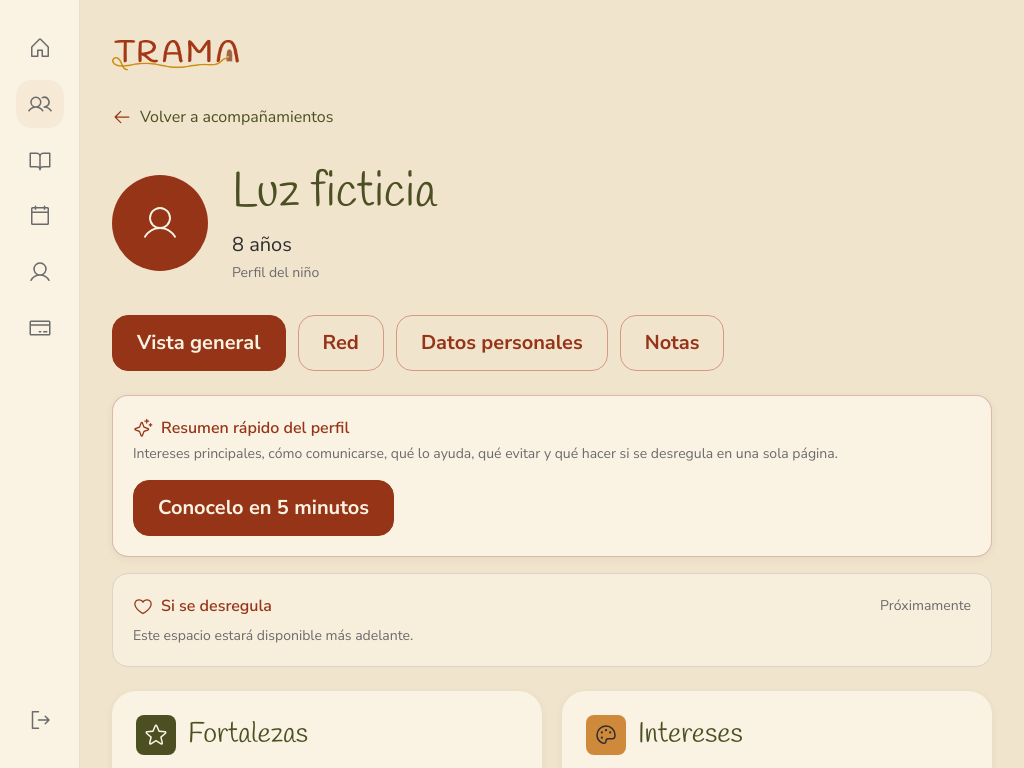
Test case: Datos personales y navegación compartida › agrega los botones juntos, con la vista general primero, y permite recorrer los datos guardados
Click the link "Datos personales": (502, 343) [396,315,608,371]
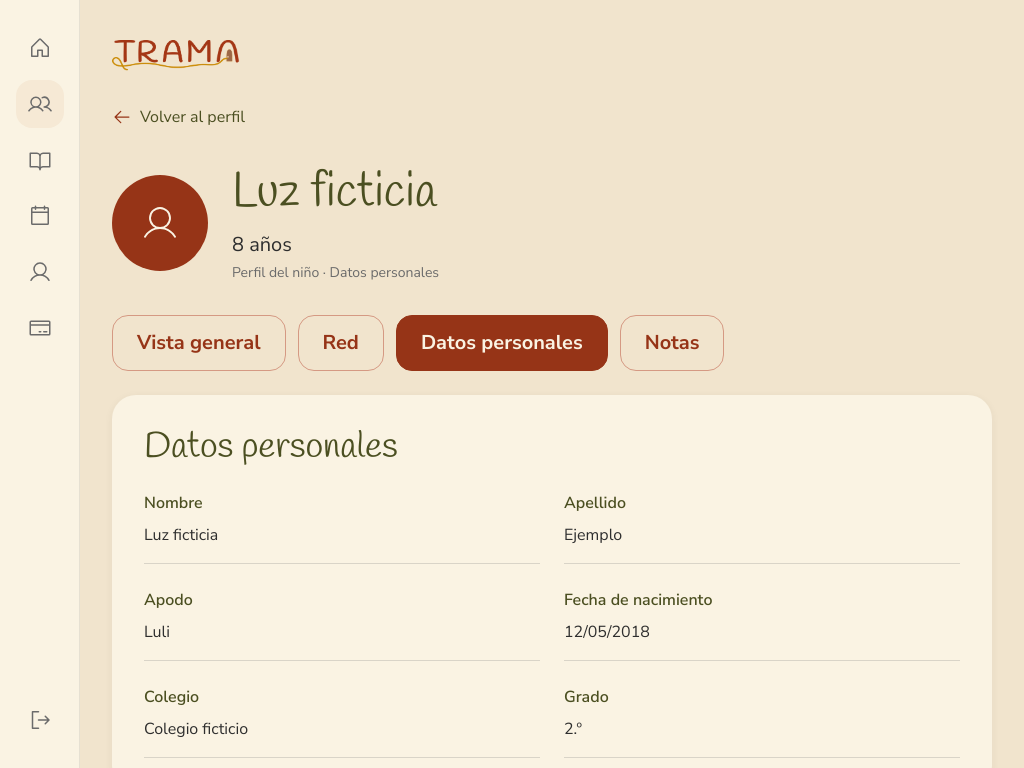
Expected: the text "Luz ficticia" is shown, [144,524,218,546]
Expected: the text "Ejemplo" is shown, [564,524,622,546]
Expected: the text "Luli" is shown, [144,621,170,643]
Click the link "Red": (341, 343) [298,315,384,371]
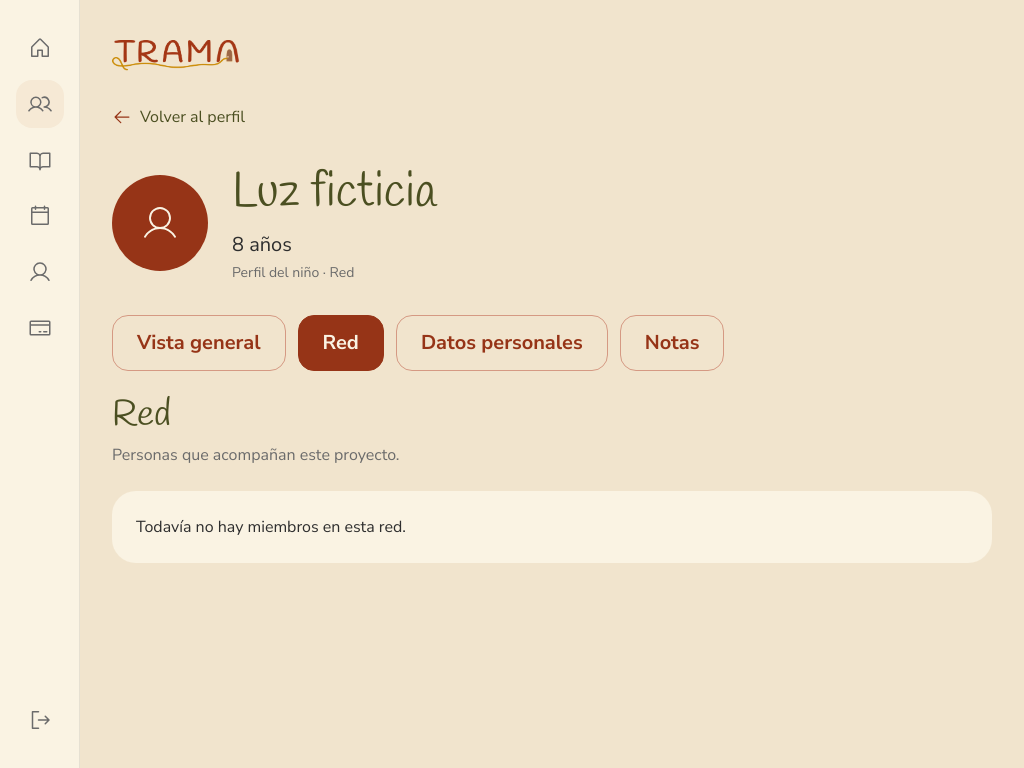
Expected: the link "Notas" is shown, [620,315,724,371]
Expected: the heading "Red" is shown, [112,391,171,439]
Click the link "Volver al perfil": (178, 117) [112,106,245,128]
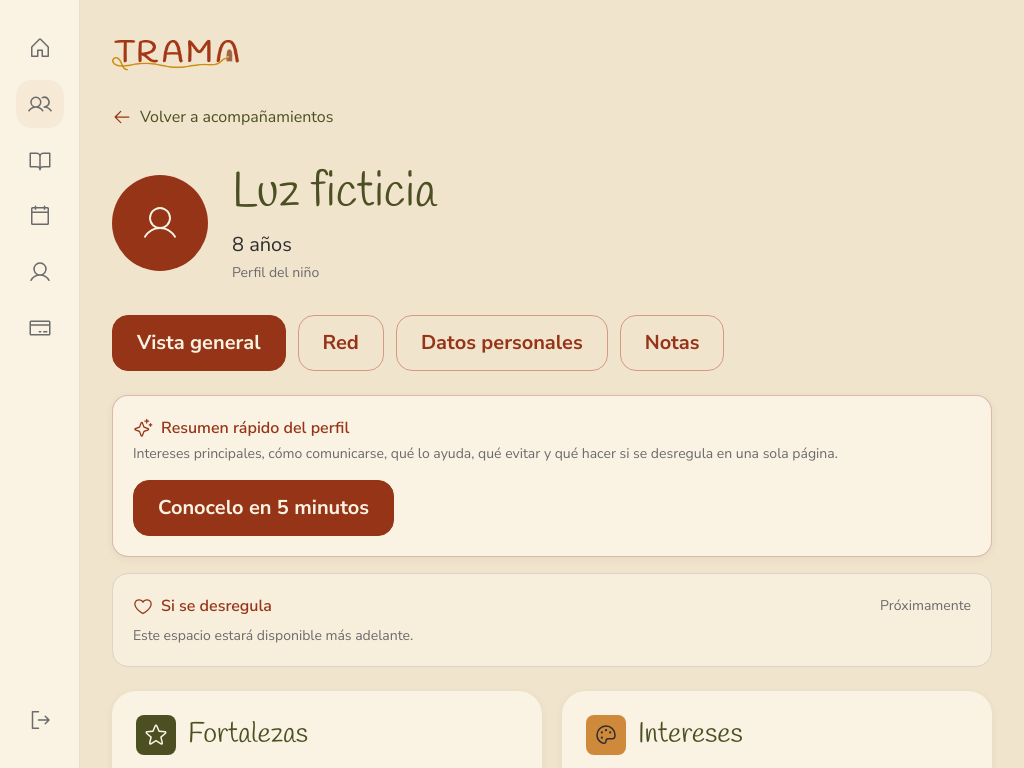
Expected: the heading "Fortalezas" is shown, [188,717,308,753]
